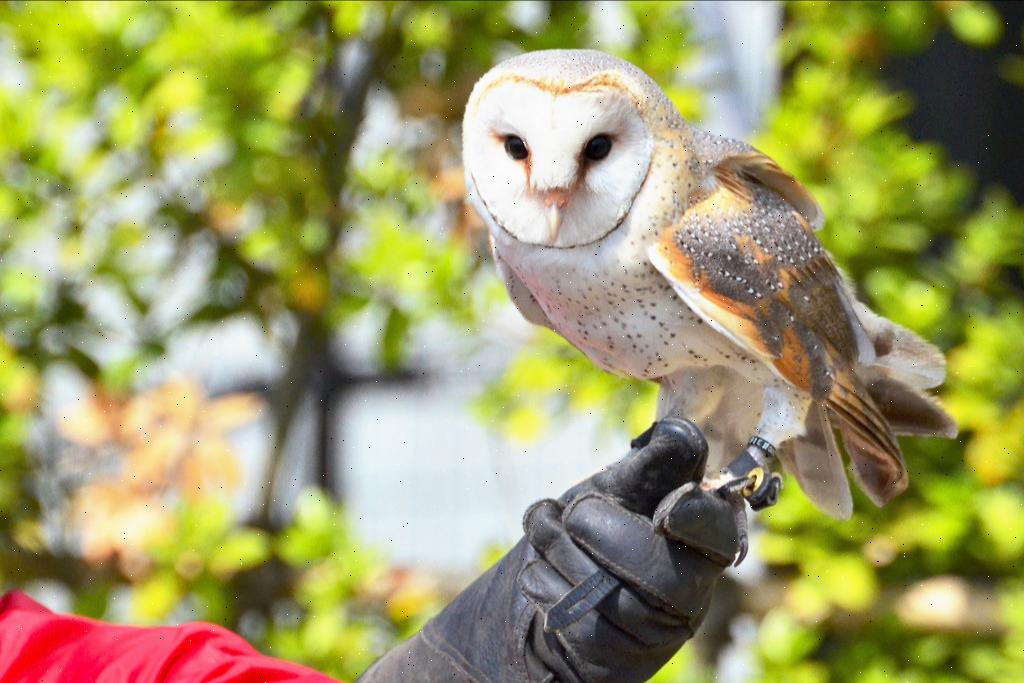Owl: (466, 42, 958, 528)
